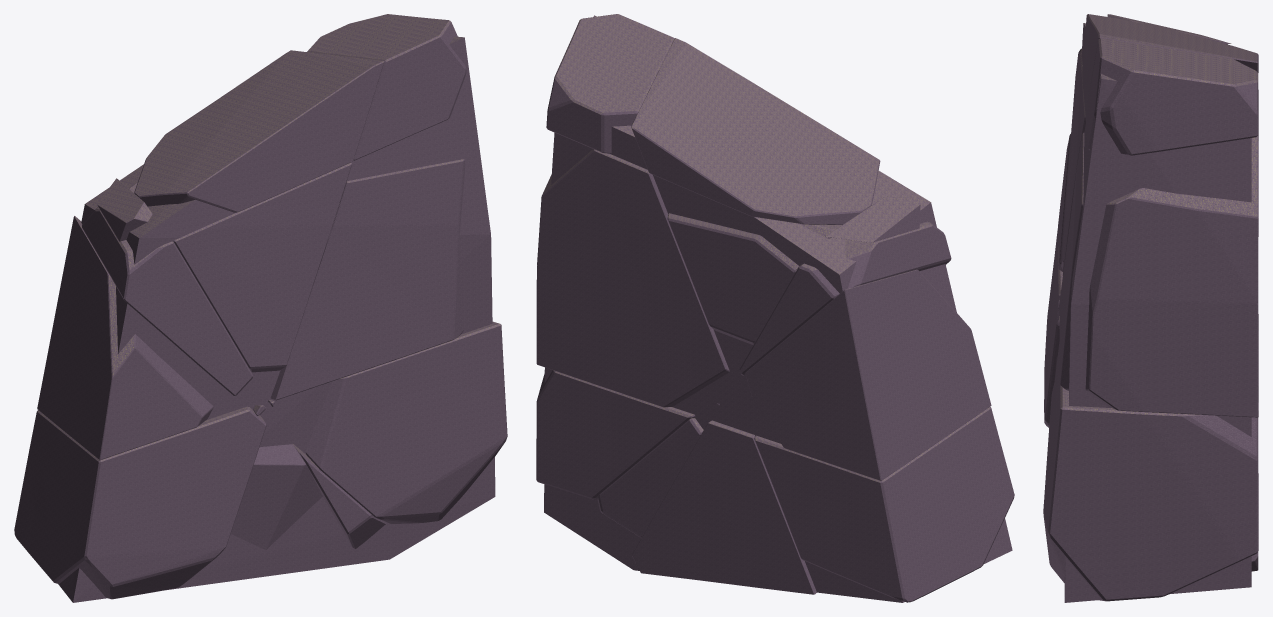
Rendered from A01_Cliff.fbx.
3 renders of one model, left to right at view 1: azimuth 30°, elevation 25°; view 2: azimuth 150°, elevation 25°; view 3: azimuth 270°, elevation 25°, orthographic. The views are drawn at different scales.
Visible parts, largest first — view 1: A01_slab0_0, A01_core0, A01_slab0_13, A01_slab0_6, A01_slab0_15, A01_slab0_7, A01_slab0_11, A01_slab0_16, A01_slab0_8, A01_slab0_2, A01_slab0_5, A01_slab0_14; view 2: A01_slab0_13, A01_slab0_7, A01_slab0_0, A01_slab0_15, A01_core0, A01_slab0_2, A01_slab0_6, A01_slab0_16, A01_slab0_11, A01_slab0_8, A01_slab0_5, A01_slab0_14; view 3: A01_slab0_13, A01_slab0_6, A01_core0, A01_slab0_16, A01_slab0_15, A01_slab0_0, A01_slab0_11, A01_slab0_8, A01_slab0_7, A01_slab0_14.
Part boxes in pixels (bbox=[...]): A01_slab0_0: bbox=[14, 406, 266, 599]; A01_core0: bbox=[58, 36, 495, 602]; A01_slab0_13: bbox=[270, 159, 465, 400]; A01_slab0_6: bbox=[305, 321, 507, 523]; A01_slab0_15: bbox=[134, 50, 384, 212]; A01_slab0_7: bbox=[37, 216, 213, 460]; A01_slab0_11: bbox=[128, 162, 352, 372]; A01_slab0_16: bbox=[307, 14, 466, 160]; A01_slab0_8: bbox=[82, 206, 252, 395]; A01_slab0_2: bbox=[231, 444, 322, 549]; A01_slab0_5: bbox=[293, 444, 385, 548]; A01_slab0_14: bbox=[97, 178, 152, 241]; A01_slab0_13: bbox=[536, 149, 729, 407]; A01_slab0_7: bbox=[745, 269, 991, 480]; A01_slab0_0: bbox=[754, 407, 1014, 602]; A01_slab0_15: bbox=[631, 38, 880, 224]; A01_core0: bbox=[544, 15, 1012, 602]; A01_slab0_2: bbox=[632, 420, 816, 594]; A01_slab0_6: bbox=[536, 370, 694, 499]; A01_slab0_16: bbox=[546, 14, 674, 153]; A01_slab0_11: bbox=[667, 213, 841, 345]; A01_slab0_8: bbox=[739, 221, 951, 375]; A01_slab0_5: bbox=[597, 418, 703, 537]; A01_slab0_14: bbox=[825, 196, 920, 242]; A01_slab0_13: bbox=[1059, 133, 1258, 417]; A01_slab0_6: bbox=[1043, 341, 1258, 601]; A01_core0: bbox=[1064, 23, 1251, 602]; A01_slab0_16: bbox=[1085, 38, 1258, 155]; A01_slab0_15: bbox=[1082, 14, 1258, 114]; A01_slab0_0: bbox=[1044, 228, 1258, 427]; A01_slab0_11: bbox=[1062, 54, 1085, 275]; A01_slab0_8: bbox=[1061, 48, 1258, 268]; A01_slab0_7: bbox=[1058, 134, 1070, 271]; A01_slab0_14: bbox=[1107, 14, 1231, 44].
Bounding box in the file's own units: 16.95 × 18.76 × 6.45.
